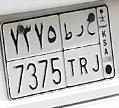7: (8, 26, 25, 94), (36, 20, 48, 90)
J: (86, 17, 102, 73)
R: (76, 23, 88, 75)
T: (61, 22, 75, 77)
